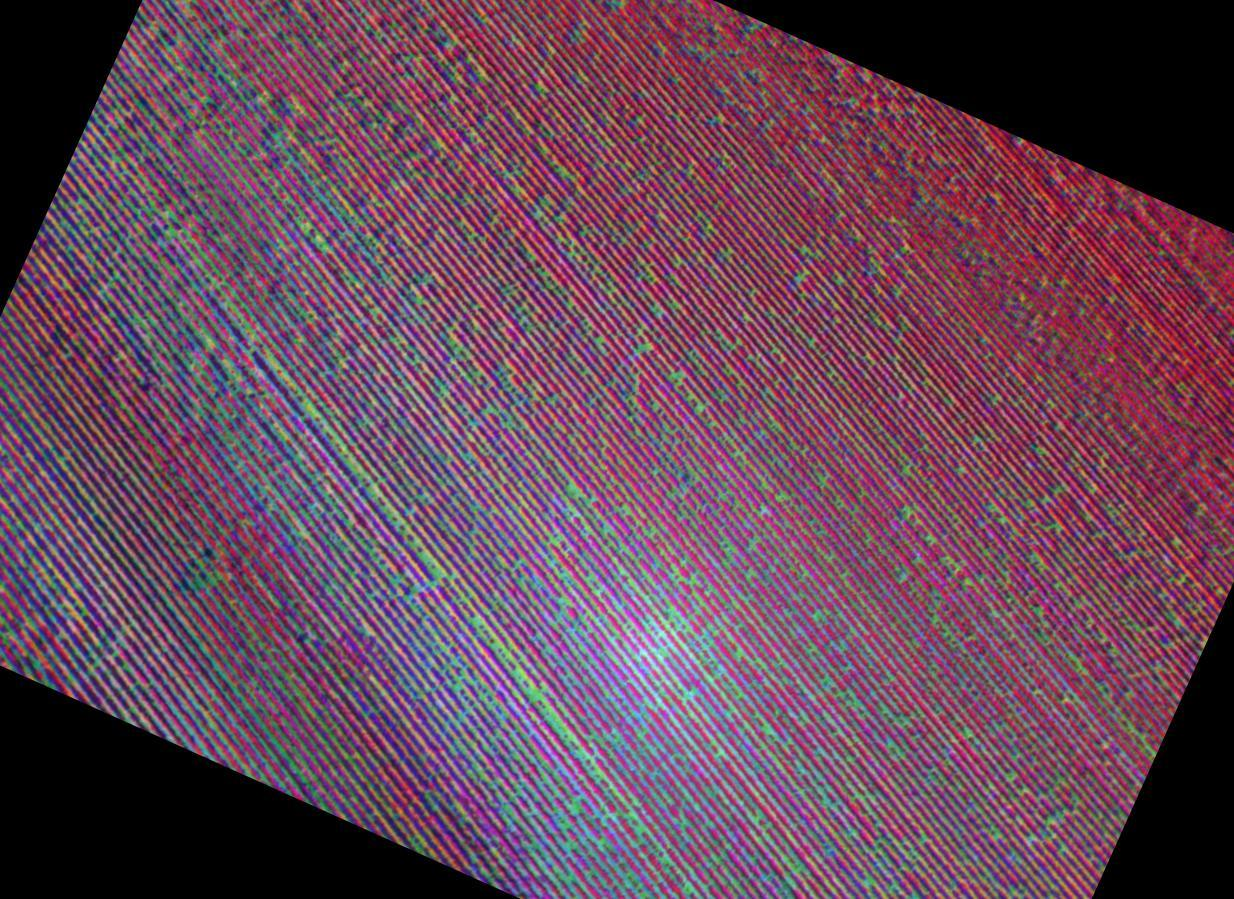dc: (163, 535, 271, 638), (612, 570, 710, 675), (275, 168, 363, 263)
